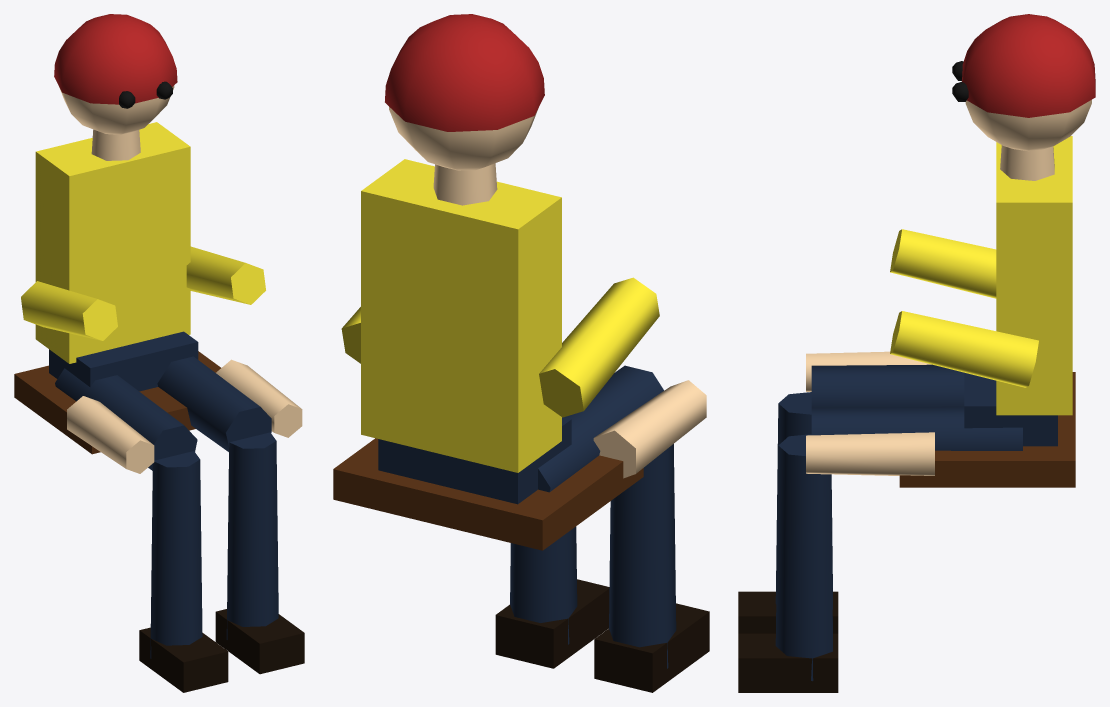
The model's file is crowd-seated-23.glb.
3 views of the same model, side by side, from view 1: azimuth 30°, elevation 25°; view 2: azimuth 150°, elevation 25°; view 3: azimuth 270°, elevation 25° (orthographic). The views are drawn at different scales.
Visible parts, largest first — view 1: Torso, Left Shin, Right Shin, Hair Cap, Right Thigh, Left Thigh, Hips, Left Upper Arm, Left Shoe, Right Shoe, Left Lower Arm, Bench Seat (+4 smaller); view 2: Torso, Hair Cap, Bench Seat, Left Shin, Left Upper Arm, Hips, Left Shoe, Right Shoe, Left Lower Arm, Right Shin, Left Thigh, Head (+2 smaller); view 3: Torso, Right Shin, Hair Cap, Right Upper Arm, Bench Seat, Left Thigh, Right Thigh, Right Lower Arm, Left Upper Arm, Right Shoe, Head, Hips (+4 smaller).
Part boxes in pixels (<box>): Torso: <box>35,122,190,363</box>; Left Shin: <box>150,451,202,658</box>; Right Shin: <box>226,432,278,639</box>; Hair Cap: <box>54,14,177,104</box>; Right Thigh: <box>157,356,271,451</box>; Left Thigh: <box>55,368,197,470</box>; Hips: <box>49,331,198,391</box>; Left Upper Arm: <box>21,281,117,340</box>; Left Shoe: <box>139,627,228,692</box>; Right Shoe: <box>215,609,304,674</box>; Left Lower Arm: <box>67,396,154,473</box>; Bench Seat: <box>14,351,220,454</box>; Torso: <box>361,159,561,472</box>; Hair Cap: <box>385,14,544,131</box>; Bench Seat: <box>333,438,643,550</box>; Left Shin: <box>609,444,676,668</box>; Left Upper Arm: <box>539,277,659,417</box>; Hips: <box>378,417,571,504</box>; Left Shoe: <box>594,603,709,692</box>; Right Shoe: <box>495,579,609,668</box>; Left Lower Arm: <box>593,380,706,478</box>; Right Shin: <box>510,526,577,644</box>; Left Thigh: <box>538,365,663,492</box>; Head: <box>389,107,538,170</box>; Torso: <box>996,136,1072,415</box>; Right Shin: <box>775,434,832,681</box>; Hair Cap: <box>962,14,1095,117</box>; Right Upper Arm: <box>890,311,1038,387</box>; Bench Seat: <box>899,372,1075,487</box>; Left Thigh: <box>811,364,964,407</box>; Right Thigh: <box>811,406,1022,450</box>; Right Lower Arm: <box>806,432,934,475</box>; Left Upper Arm: <box>890,229,996,298</box>; Right Shoe: <box>738,633,838,692</box>; Head: <box>965,99,1091,151</box>; Hips: <box>964,372,1057,446</box>.
Size of the model in its own units: 0.4097 by 1.2 by 0.6089.
